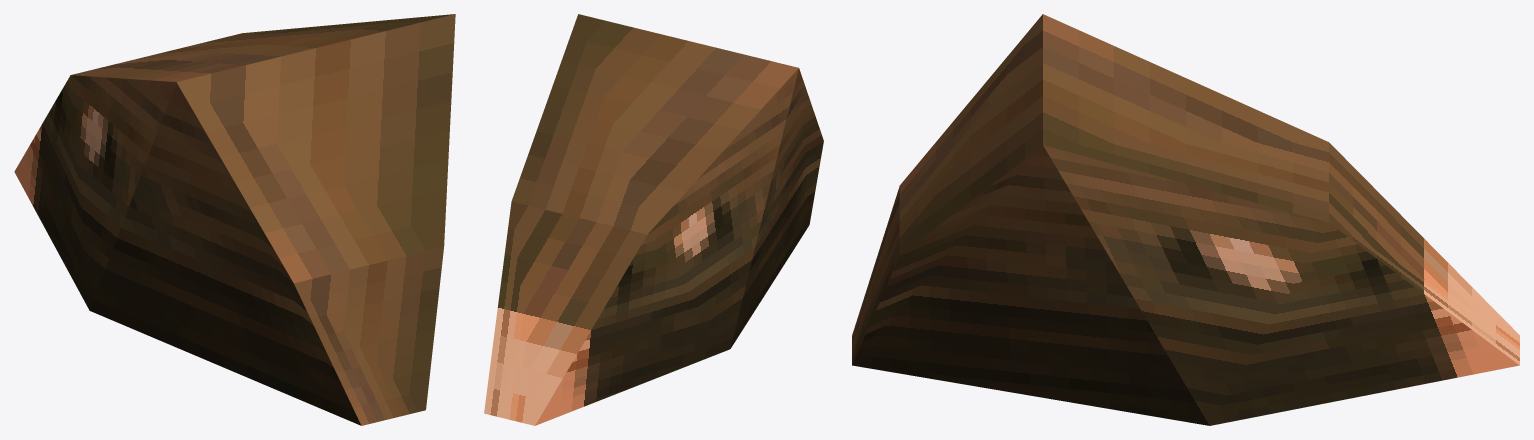
3 renders of one model, left to right at view 1: azimuth 30°, elevation 25°; view 2: azimuth 150°, elevation 25°; view 3: azimuth 270°, elevation 25°, orthographic. The views are drawn at different scales.
Visible parts, largest first — view 1: prim039-Box03; view 2: prim039-Box03; view 3: prim039-Box03.
Boxes of the visible parts, x1,y1,x2,y2 form: prim039-Box03: [14, 14, 455, 425]; prim039-Box03: [484, 14, 823, 425]; prim039-Box03: [852, 14, 1519, 425].
Bounding box in the file's own units: 13 × 13 × 28.
2 materials, 2 textured.
